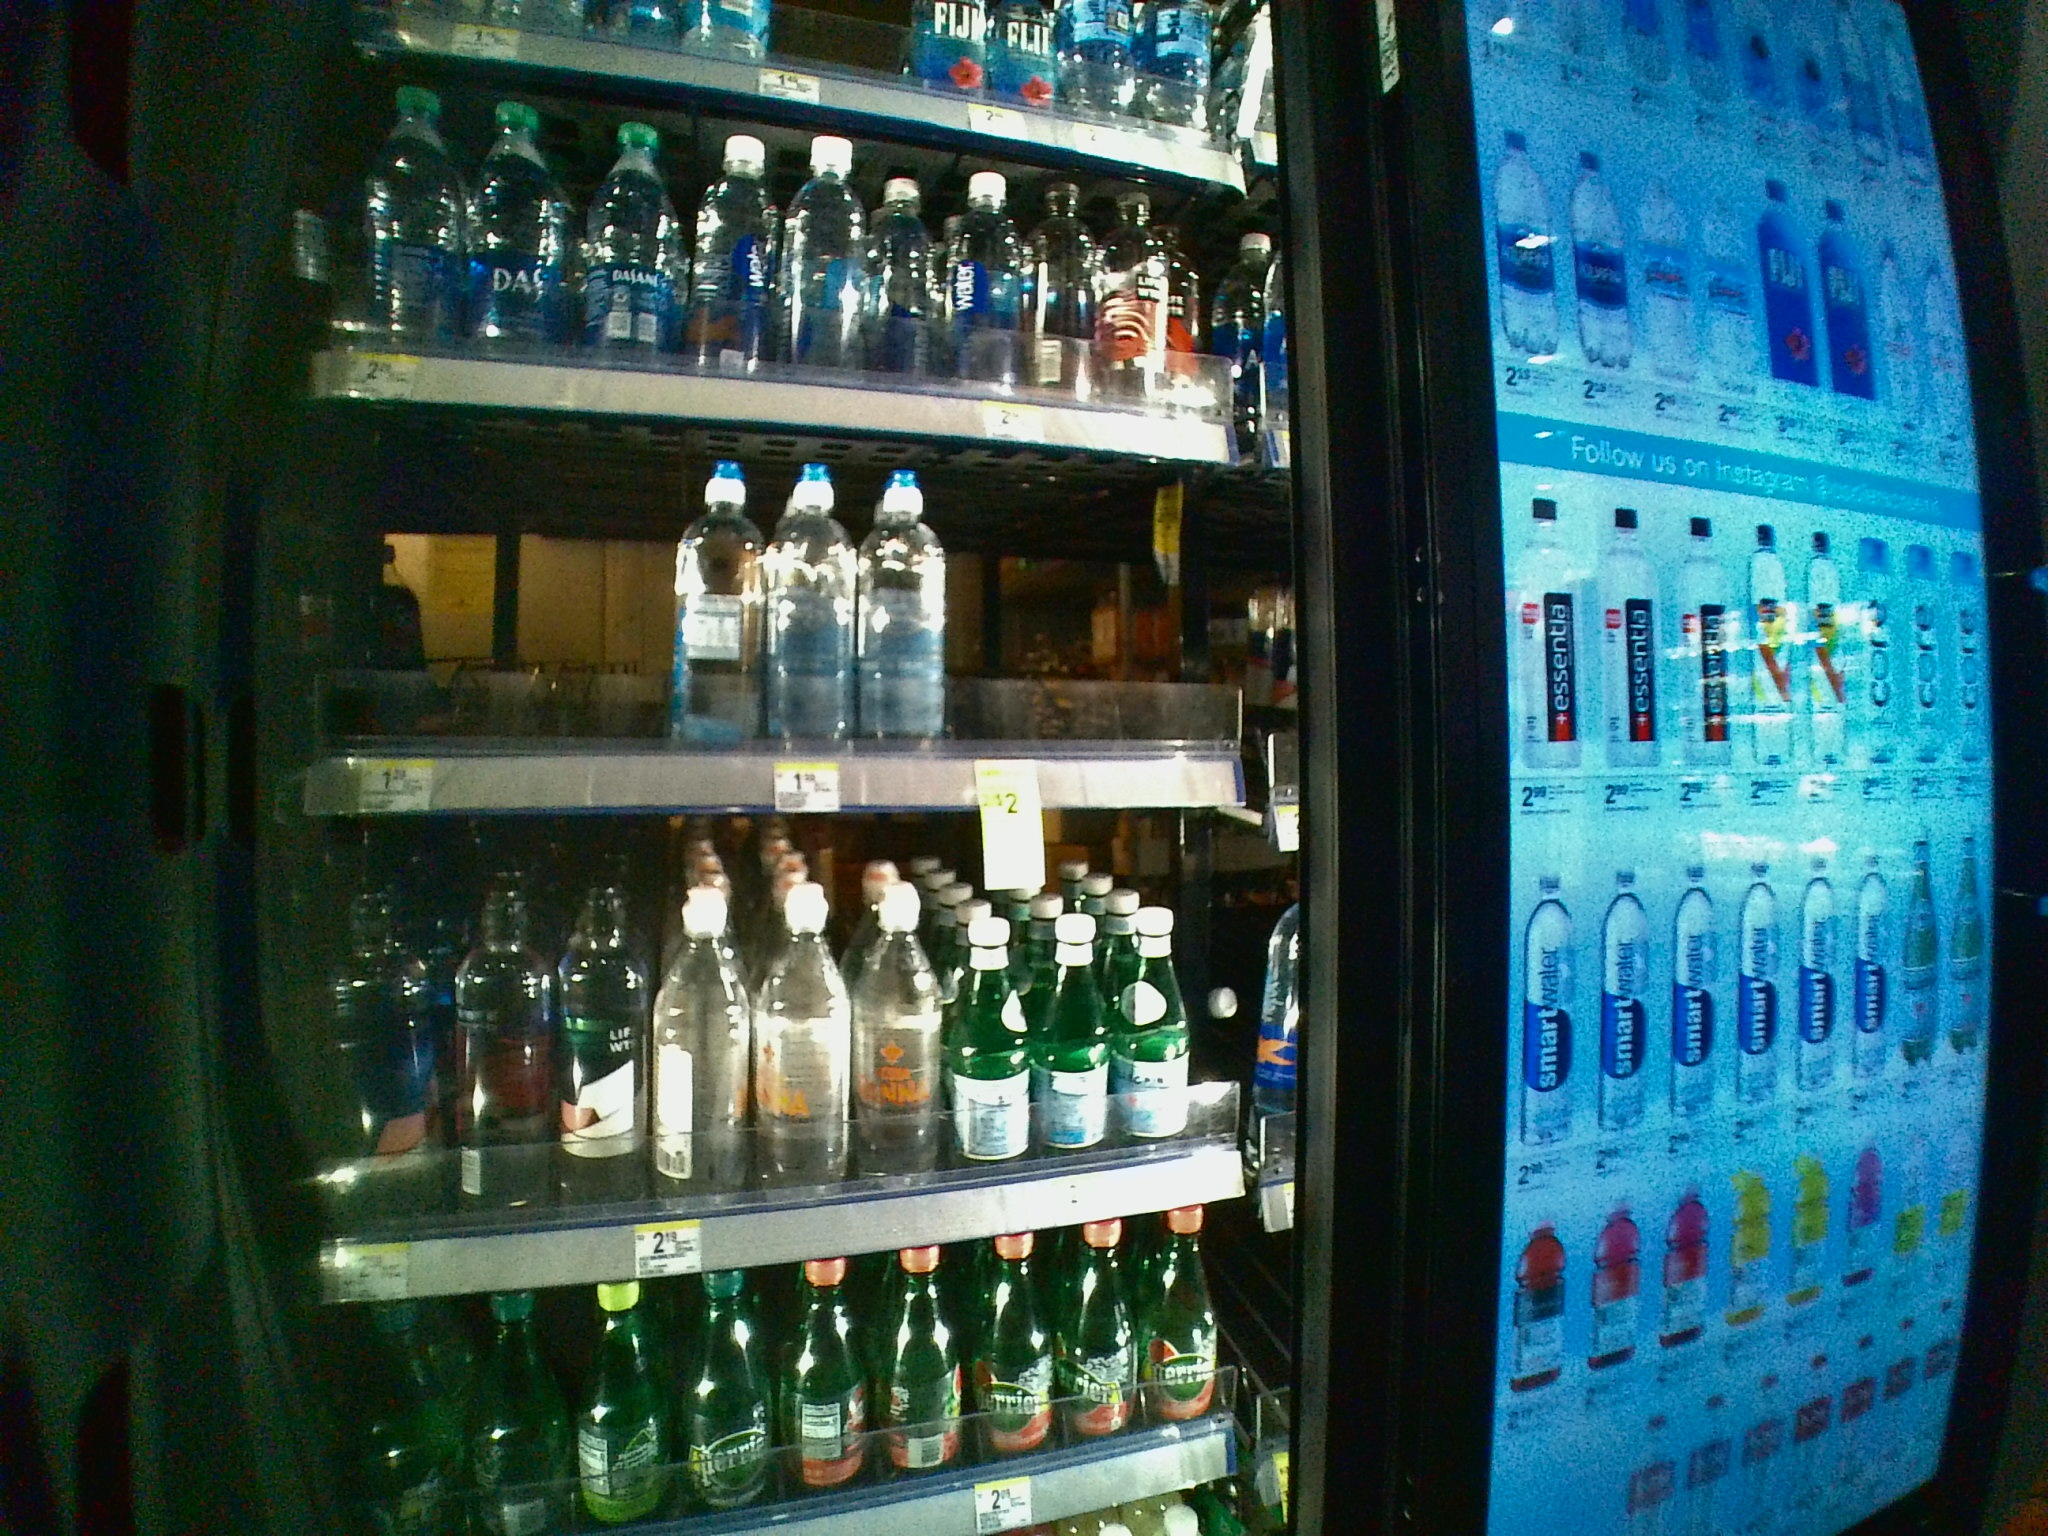Shelf: (285, 820, 1301, 1304), (285, 399, 1292, 816)
